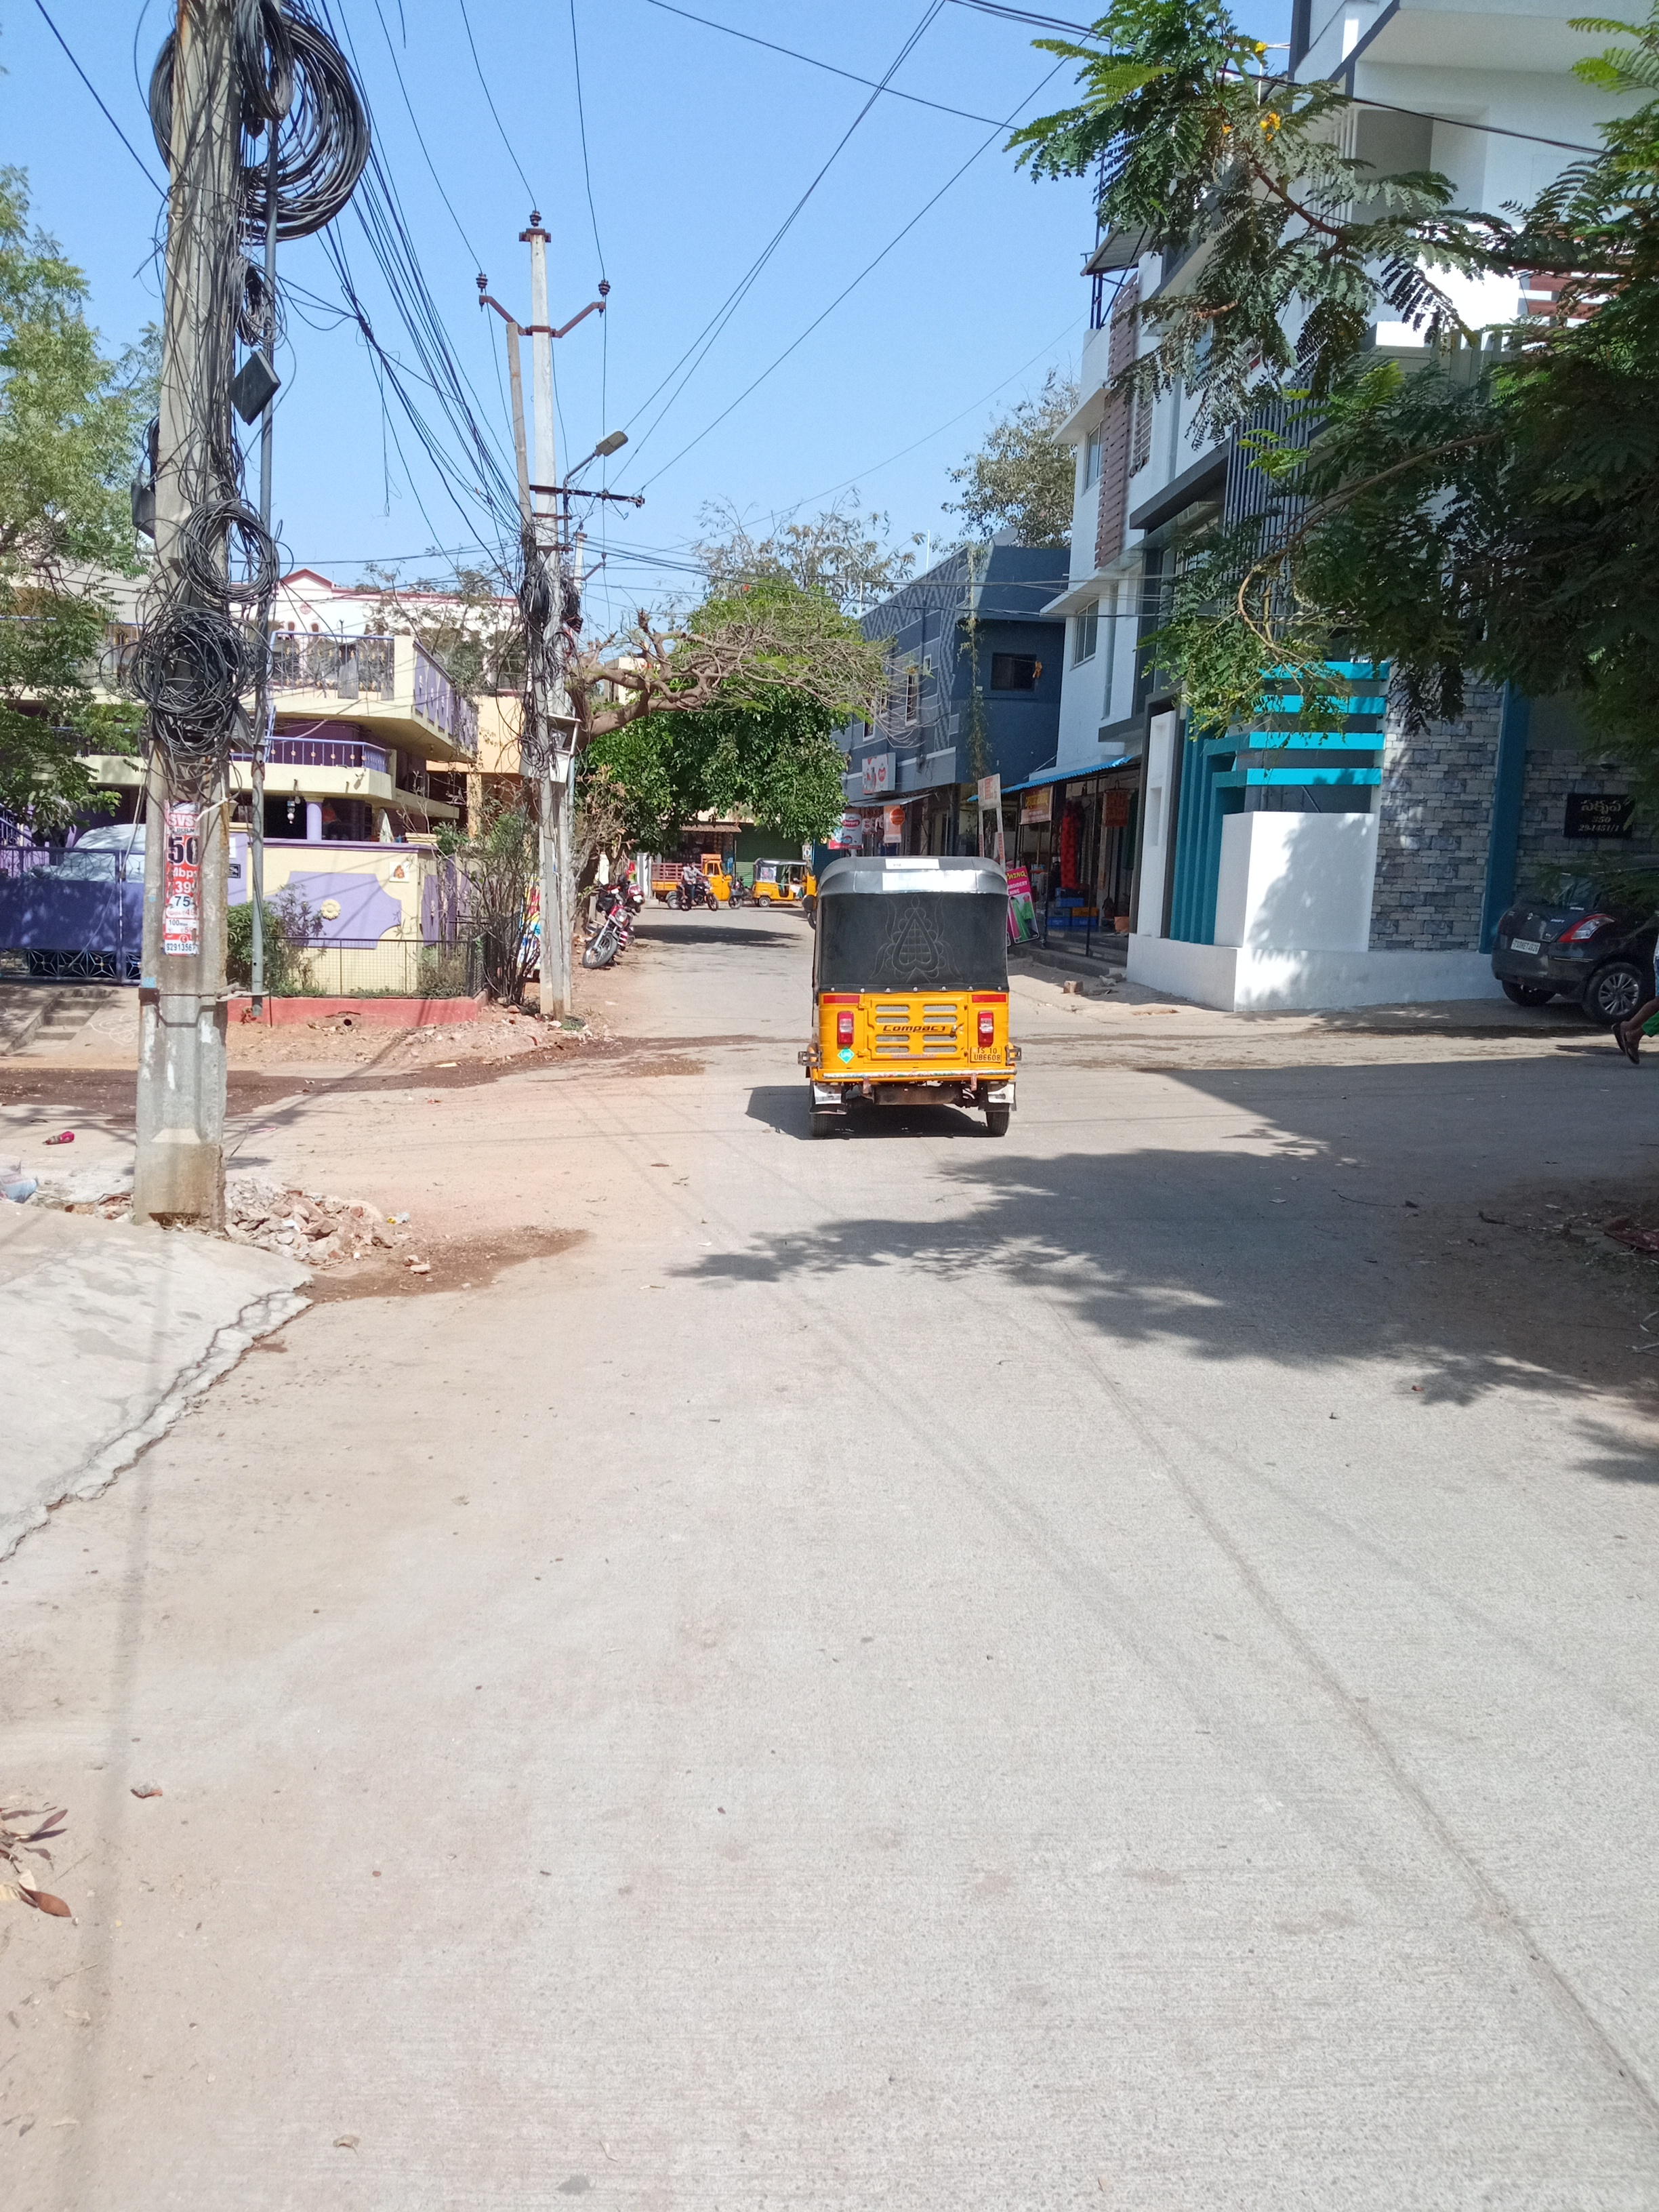auto: (798, 855, 1021, 1136), (652, 853, 741, 909), (753, 857, 817, 907)
car: (1486, 852, 1659, 1010)
two_wheelers: (582, 897, 634, 968), (676, 876, 718, 911), (617, 873, 645, 913)
